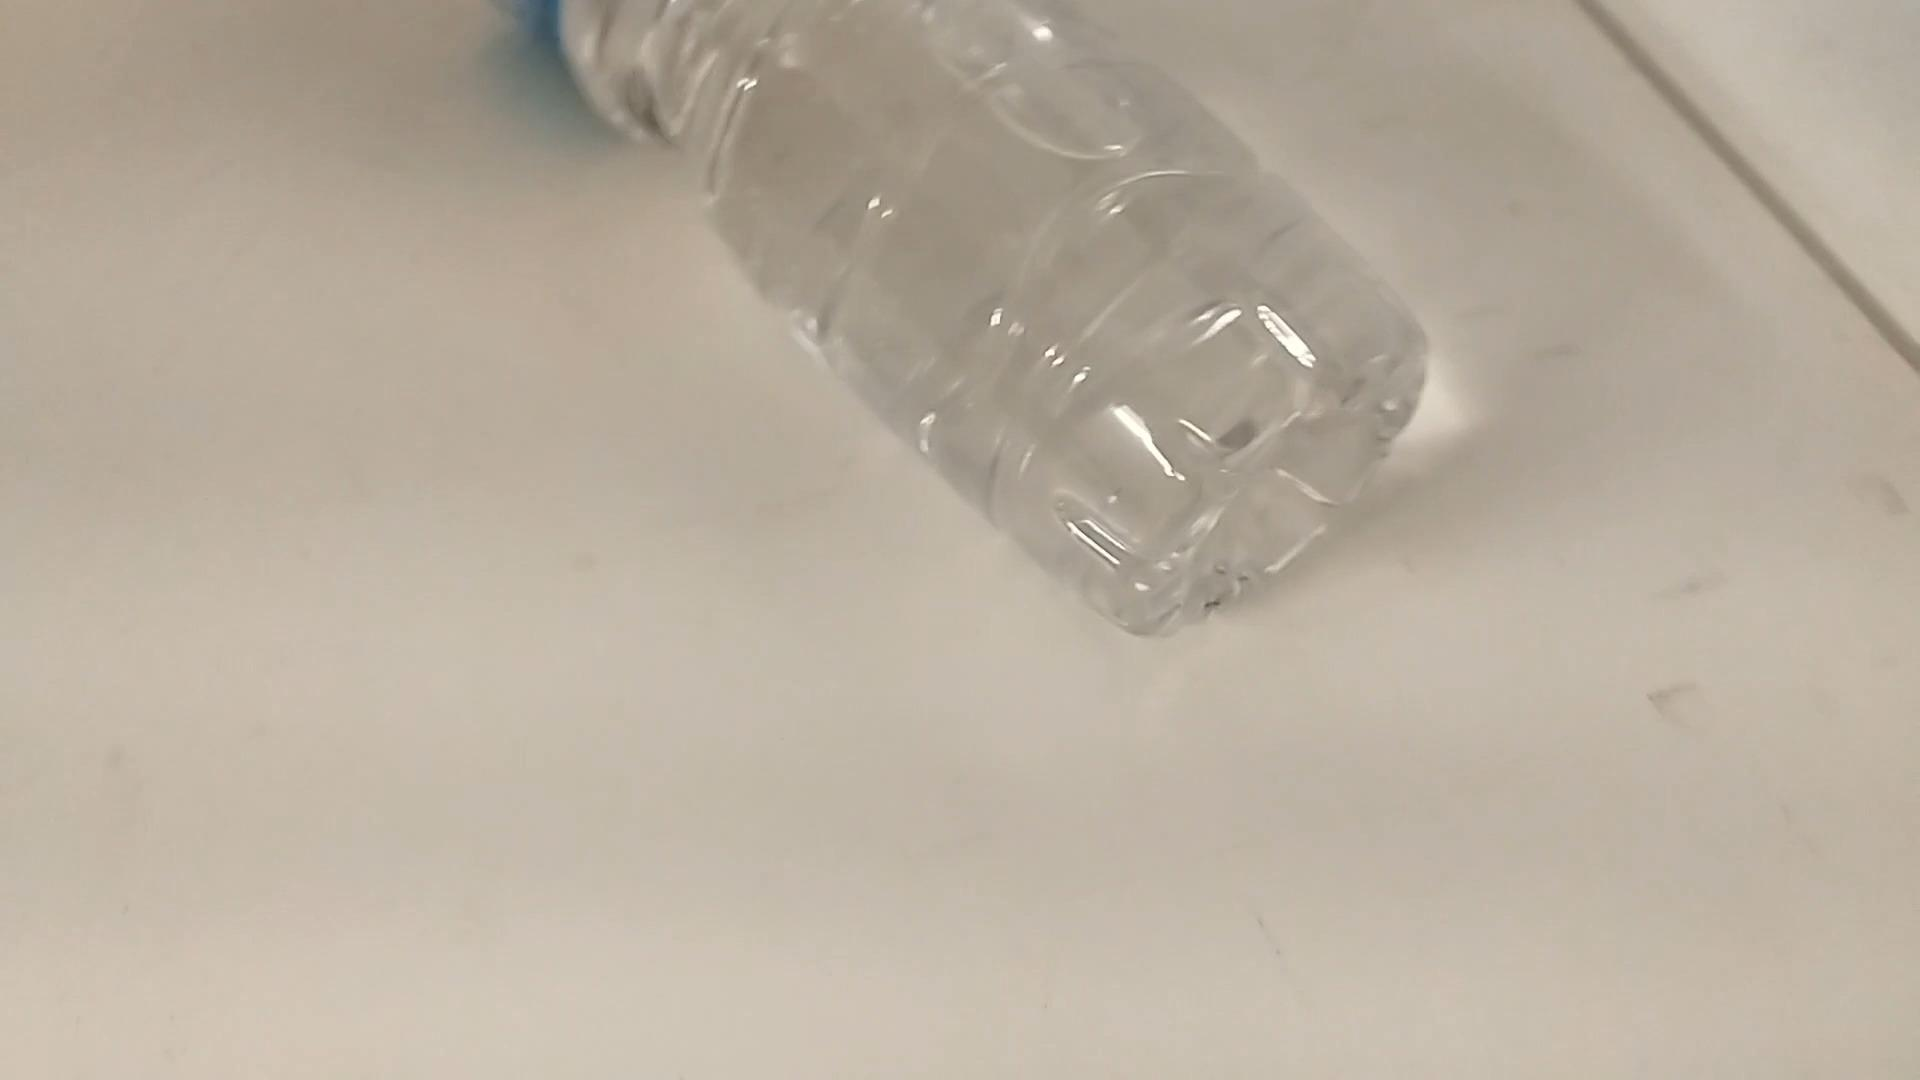agua: (479, 0, 1415, 637)
